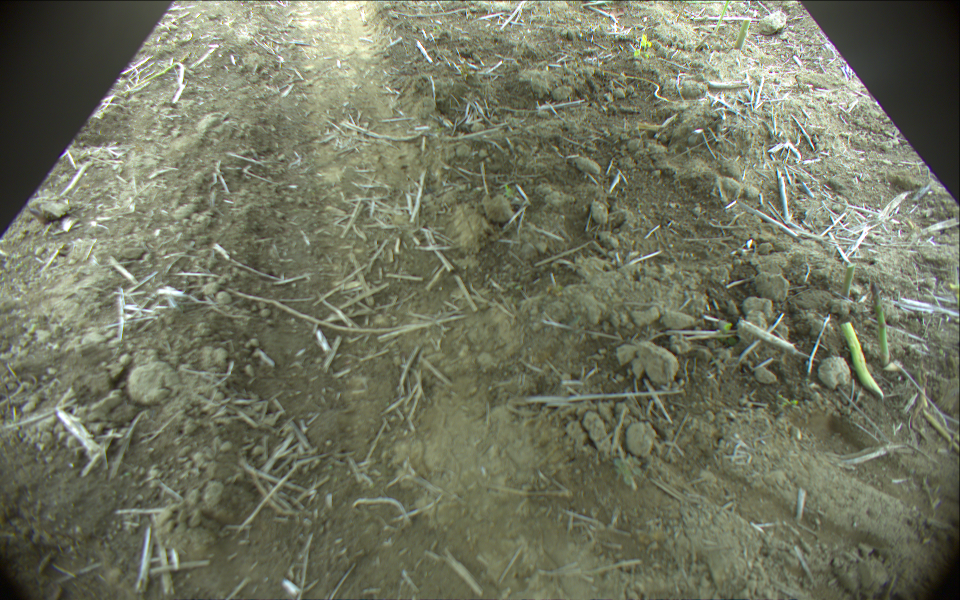aspa: (839, 321, 883, 401), (868, 276, 891, 369), (837, 261, 855, 300), (715, 1, 733, 34), (738, 16, 752, 50)
